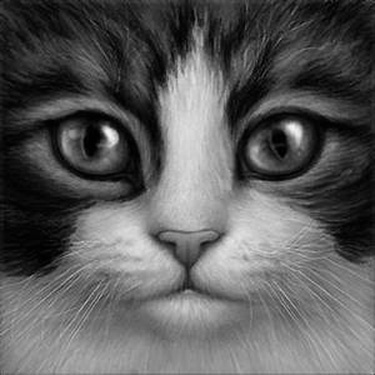cat: (7, 6, 371, 370)
